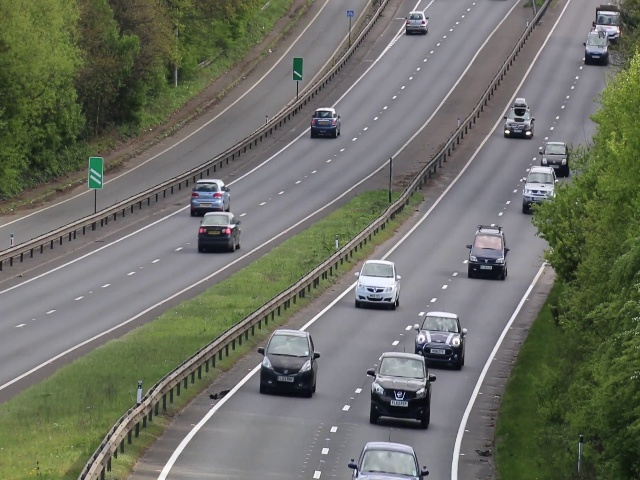car: (369, 353, 432, 427), (260, 328, 316, 397), (348, 443, 424, 480), (354, 258, 398, 307), (416, 311, 463, 356), (467, 226, 506, 278), (197, 211, 241, 252), (188, 180, 233, 211), (501, 108, 535, 139), (309, 107, 340, 140), (524, 170, 555, 199), (586, 35, 609, 66), (542, 142, 570, 166), (404, 11, 428, 34)
